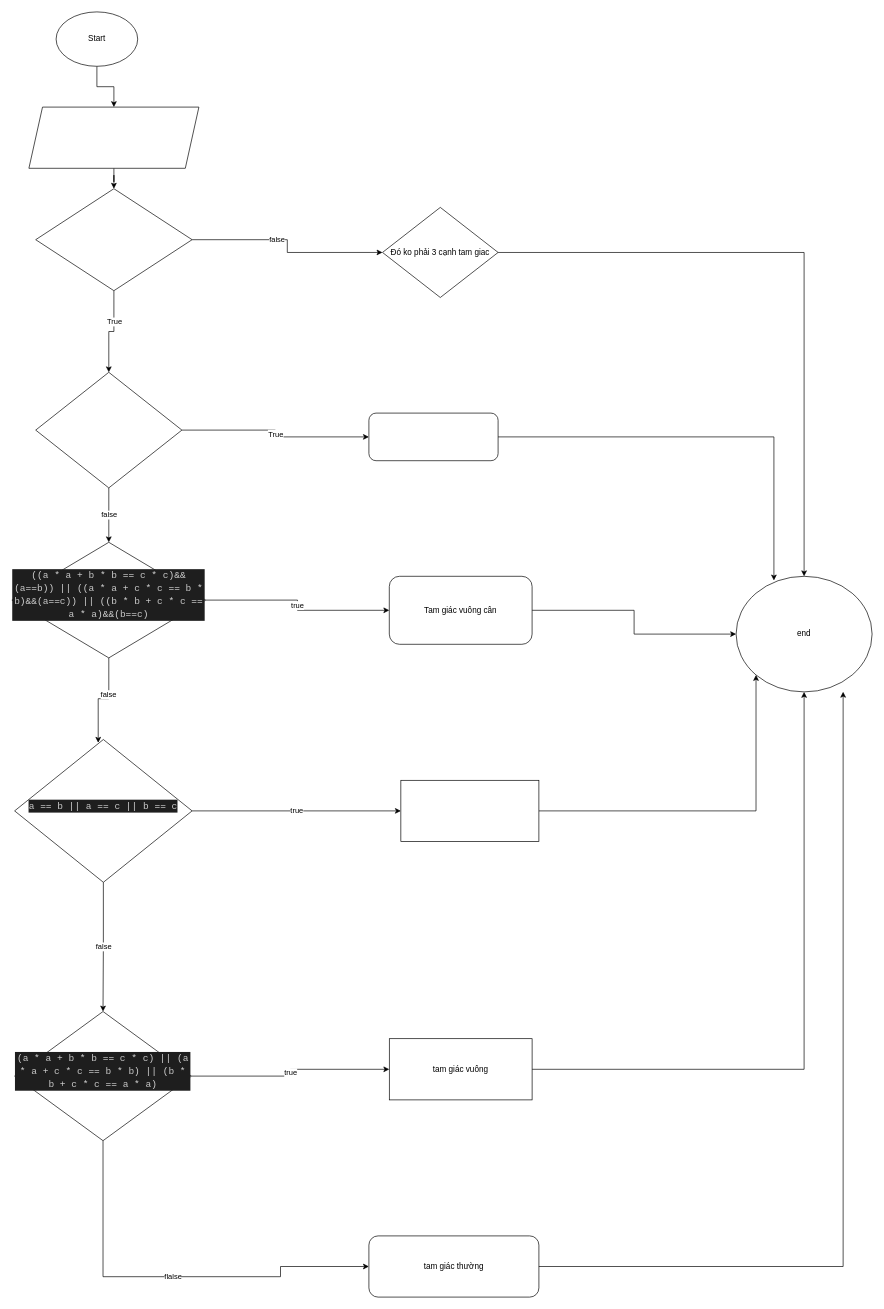
Some shapes in this 884 by 1309 pixel diagram are drawn without their labels. The shapes that lost their labels are listed below. From the top down, each one's box as (x1, y1, x2, y2) in pixels, then its label:
(28, 106, 199, 168): a,b,c (3 cạnh của tam giác)
(35, 188, 192, 291): a + b > c && a + c > b && b + c > a)
(35, 372, 182, 488): ( a == b )&&( a == c )
(368, 412, 498, 461): Đó là tam giác đều
(400, 780, 539, 842): tam giác cân
